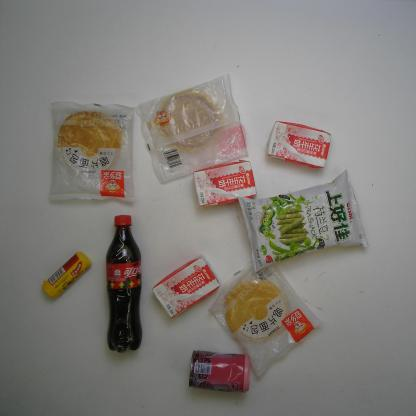Candy: (39, 246, 94, 304)
Canned Food: (186, 347, 253, 396)
Dessert: (206, 254, 326, 378), (133, 70, 254, 189), (46, 96, 142, 208)
Drink: (104, 212, 146, 353)
Milk: (150, 253, 223, 323), (262, 120, 336, 173), (192, 158, 258, 211)
Puffed Food: (236, 166, 370, 276)
